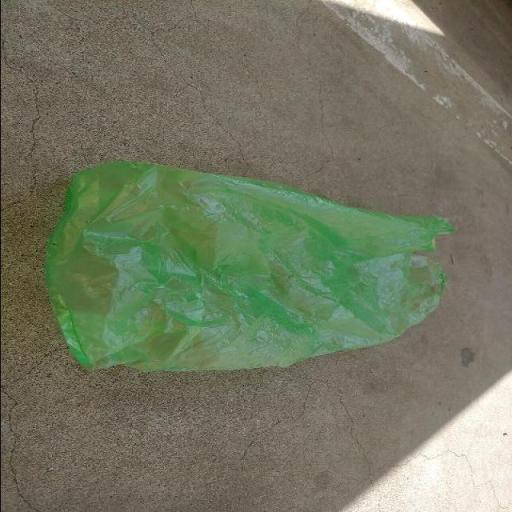plastic-bag: (38, 158, 456, 378)
